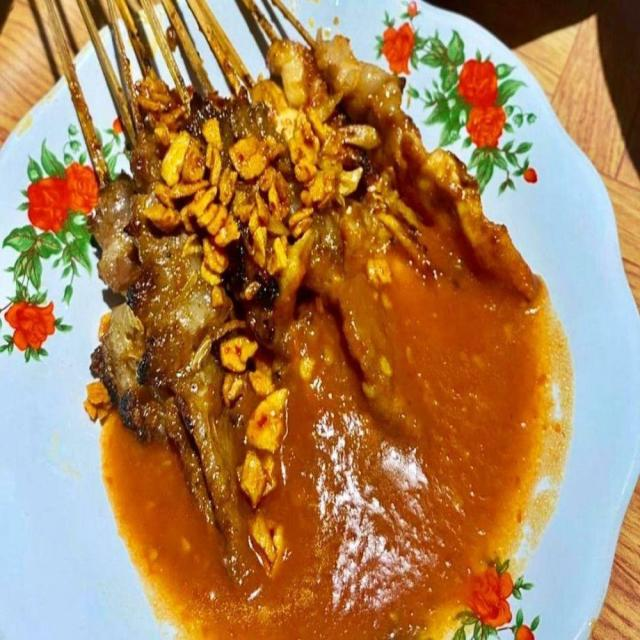Sate: (35, 9, 513, 526)
